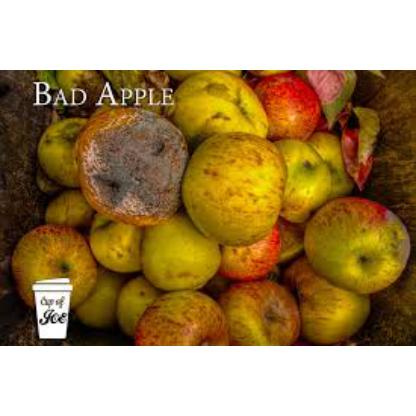apple: (68, 105, 184, 221), (183, 128, 282, 238), (304, 199, 410, 273), (13, 220, 97, 308), (168, 71, 264, 142), (126, 282, 226, 344), (221, 276, 296, 340), (271, 136, 329, 210)
